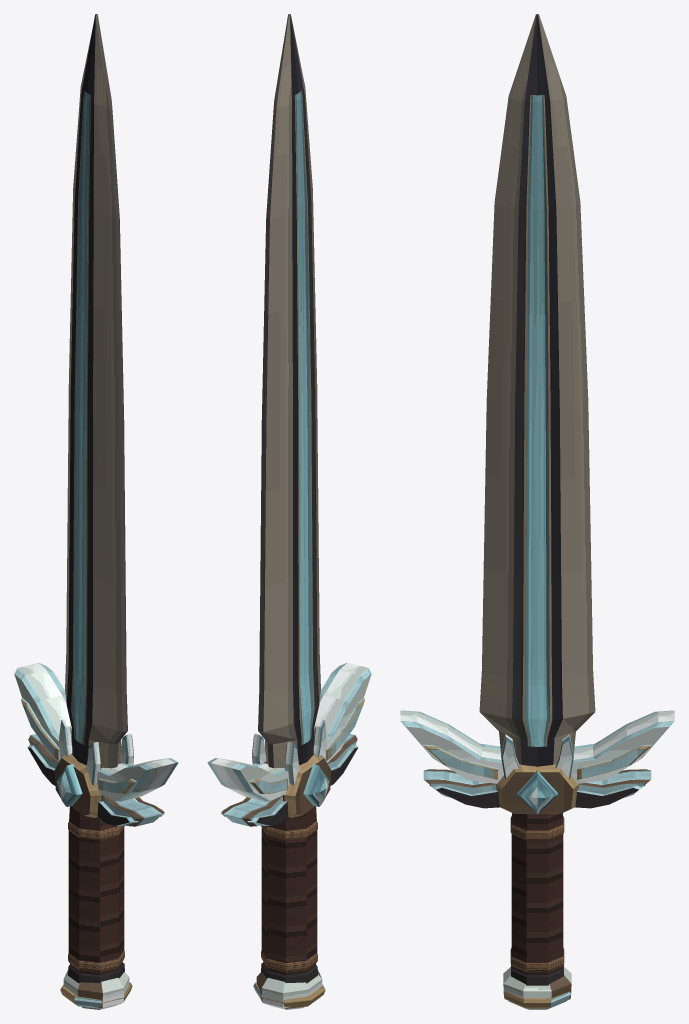
File: zhuji_baiqing_lingyun_sword_forged.obj
3 views of the same model, side by side, from view 1: azimuth 30°, elevation 25°; view 2: azimuth 150°, elevation 25°; view 3: azimuth 270°, elevation 25° (orthographic).
Visible parts, largest first — view 1: geometry; view 2: geometry; view 3: geometry.
Boxes of the visible parts, left/top/right/bottom form: geometry: left=14, top=14, right=178, bottom=1009; geometry: left=207, top=14, right=371, bottom=1009; geometry: left=400, top=14, right=674, bottom=1009.
Bounding box in the file's own units: 0.1199 × 1.55 × 0.3913.
